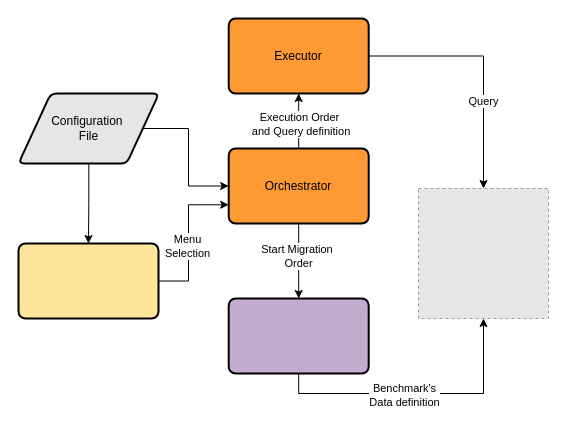
This 566x425 diagram has some shape labels left out. Grey dashed boxes stand in for pictures. Here are the shapes that lost their labels. From the top down, the centre of each, then its label:
At point (88, 280): "Console".
At point (298, 335): "Benchmark Generator".
